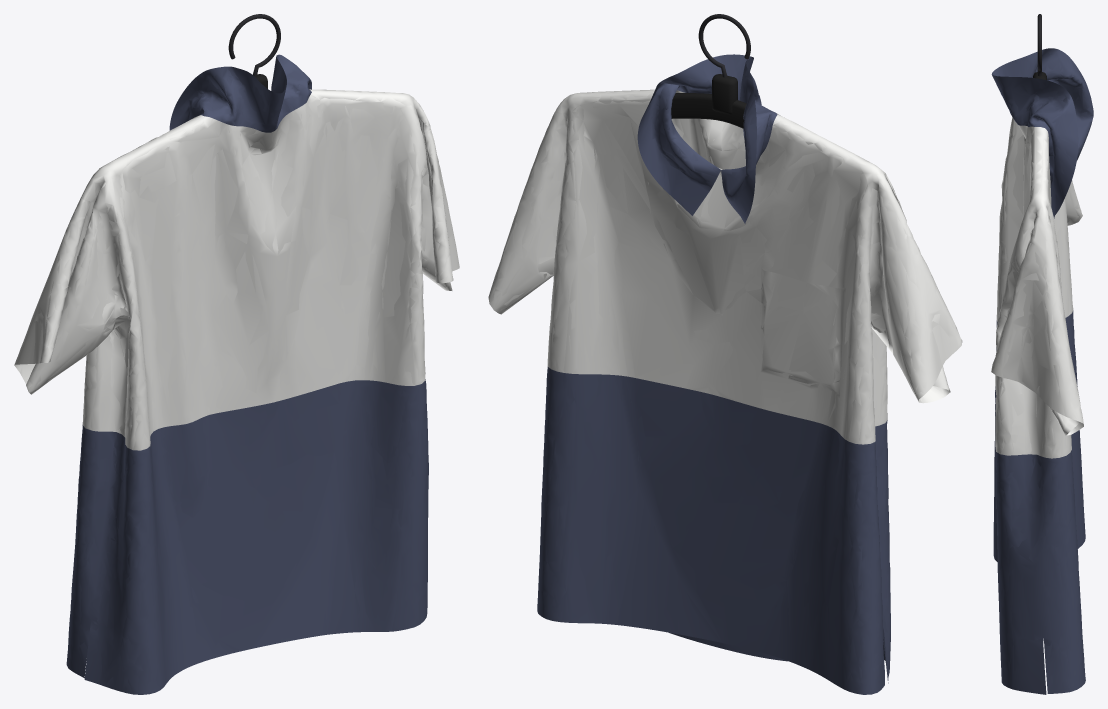
The model's file is polo-hivis-6hvnc.glb.
3 views of the same model, side by side, from view 1: azimuth 30°, elevation 25°; view 2: azimuth 150°, elevation 25°; view 3: azimuth 270°, elevation 25° (orthographic). The views are drawn at different scales.
Visible parts, largest first — view 1: polo_hivis_md_LOD0_body, polo_hivis_md_LOD1_navy, polo_hivis_md_LOD1_body, polo_hivis_md_LOD0_navy, polo_hivis_md_LOD0; view 2: polo_hivis_md_LOD1_body, polo_hivis_md_LOD1_navy, polo_hivis_md_LOD0_body, polo_hivis_md_LOD0_navy, polo_hivis_md_LOD0_hw; view 3: polo_hivis_md_LOD0_navy, polo_hivis_md_LOD0_body, polo_hivis_md_LOD1_navy, polo_hivis_md_LOD1_body, polo_hivis_md_LOD0.
Boxes of the visible parts, <box> form: polo_hivis_md_LOD0_body: <box>15,89,459,450</box>; polo_hivis_md_LOD1_navy: <box>66,55,428,694</box>; polo_hivis_md_LOD1_body: <box>14,89,458,450</box>; polo_hivis_md_LOD0_navy: <box>66,54,428,694</box>; polo_hivis_md_LOD0: <box>228,14,280,77</box>; polo_hivis_md_LOD1_body: <box>489,90,960,444</box>; polo_hivis_md_LOD1_navy: <box>537,54,890,694</box>; polo_hivis_md_LOD0_body: <box>488,89,962,444</box>; polo_hivis_md_LOD0_navy: <box>537,54,890,694</box>; polo_hivis_md_LOD0_hw: <box>671,74,746,128</box>; polo_hivis_md_LOD0_navy: <box>991,48,1093,694</box>; polo_hivis_md_LOD0_body: <box>991,117,1083,458</box>; polo_hivis_md_LOD1_navy: <box>992,48,1093,693</box>; polo_hivis_md_LOD1_body: <box>994,119,1083,457</box>; polo_hivis_md_LOD0: <box>1037,14,1041,76</box>.
Size of what is drawn, in the model's own units: 0.6295 by 0.8597 by 0.1323.
